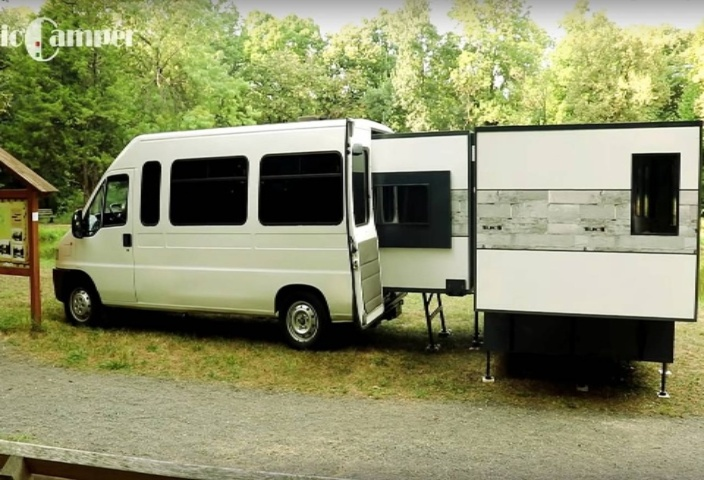van: (53, 124, 401, 332)
